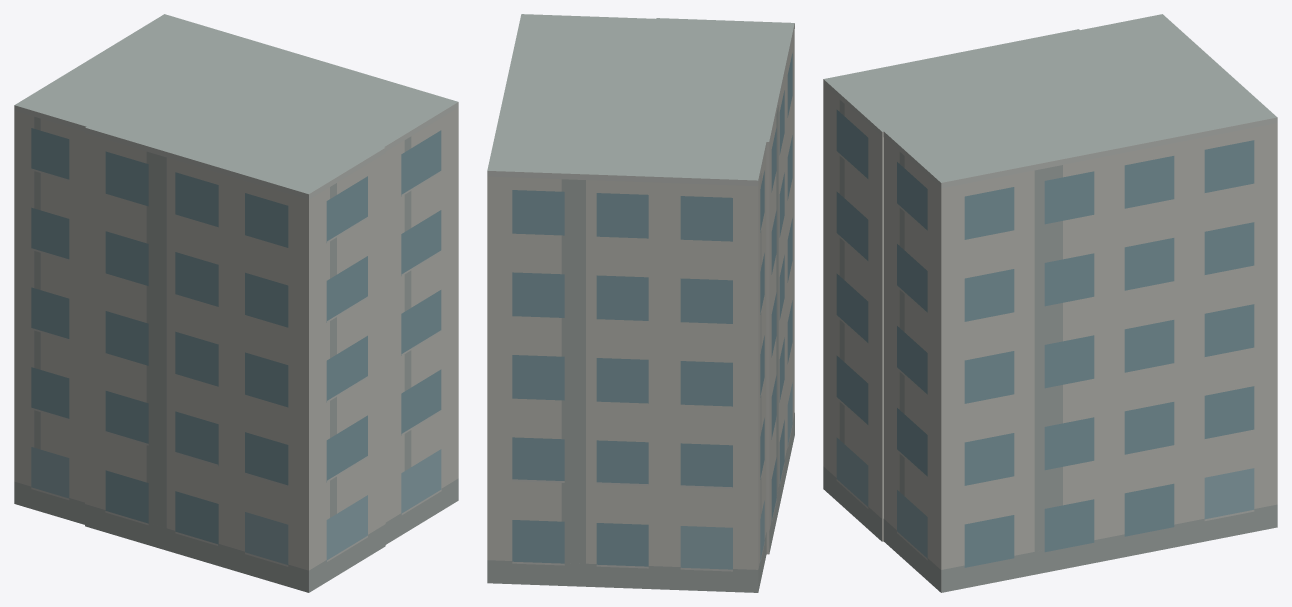
File: survey-upis-32497875.glb
3 views of the same model, side by side, from view 1: azimuth 30°, elevation 25°; view 2: azimuth 150°, elevation 25°; view 3: azimuth 270°, elevation 25° (orthographic). The views are drawn at different scales.
Parts seen in each view (by area): view 1: survey-upis-32497875.tmp; view 2: survey-upis-32497875.tmp; view 3: survey-upis-32497875.tmp.
Boxes of the visible parts, <box> form: survey-upis-32497875.tmp: <box>14,14,458,592</box>; survey-upis-32497875.tmp: <box>487,14,794,592</box>; survey-upis-32497875.tmp: <box>823,14,1277,592</box>.
Bounding box in the file's own units: 15.41 × 17.43 × 17.51.
